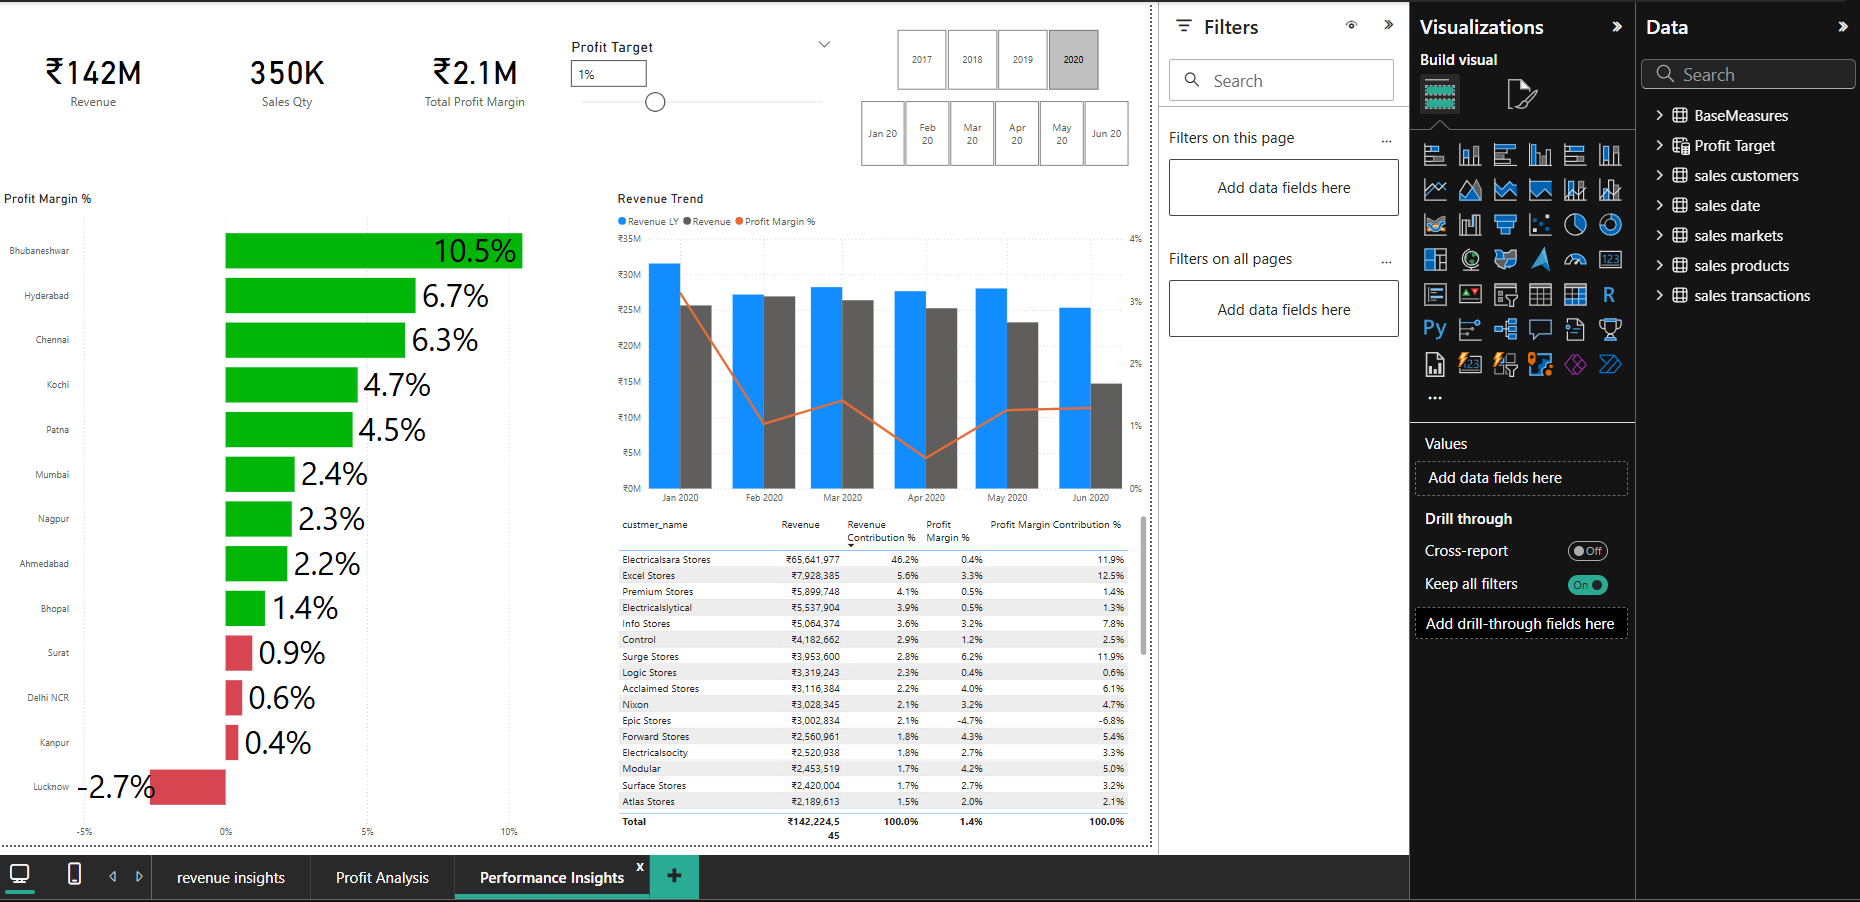

Layout of this report page (visuals, bound fields, positions):
{"tool":"powerbi","page":{"name":"Performance Insights","canvas":[1500,1100],"ordinal":2},"visuals":[{"type":"card","fields":{"Values":["BaseMeasures.Revenue"]},"box":[0,0,243.3,196.7],"z":0},{"type":"card","fields":{"Values":["BaseMeasures.Sales Qty"]},"box":[243.3,0,263.3,196.7],"z":1000},{"type":"barChart","title":"Profit Margin %","fields":{"Category":["sales markets.zone","sales markets.markets_name","sales customers.custmer_name"],"Y":["BaseMeasures.Profit Margin %"]},"box":[0,246,800,854],"z":2000},{"type":"slicer","fields":{"Values":["sales date.year"]},"box":[1145,30,311.7,91.7],"z":3000},{"type":"slicer","fields":{"Values":["sales date.cy_date"]},"box":[1096.7,121.7,398.3,98.3],"z":4000},{"type":"tableEx","title":"Top 5 Products","fields":{"Values":["sales customers.custmer_name","BaseMeasures.Revenue","BaseMeasures.Revenue Contribution %","BaseMeasures.Profit Margin %","BaseMeasures.Profit Margin Contribution %"]},"box":[800,665,700,435],"z":5000},{"type":"lineClusteredColumnComboChart","title":"Revenue Trend","fields":{"Category":["sales date.cy_date"],"Y":["BaseMeasures.Revenue LY","BaseMeasures.Revenue"],"Y2":["BaseMeasures.Profit Margin %"]},"box":[800,246.7,695,418.3],"z":6000},{"type":"card","fields":{"Values":["BaseMeasures.Total Profit Margin"]},"box":[506.7,0,225,196.7],"z":7000},{"type":"slicer","fields":{"Values":["Profit Target.Profit Target"]},"box":[732,42,364,160],"z":8000}]}

Visuals, with their boxes on the page's 1500x1100 design canvas (x1, y1, x2, y2). These are canvas units, not pixel positions in the 1860x902 screenshot, which may show the page scaled, cropped or inside an application window:
card - BaseMeasures.Revenue: select_region(0, 0, 243, 197)
card - BaseMeasures.Sales Qty: select_region(243, 0, 507, 197)
"Profit Margin %" barChart: select_region(0, 246, 800, 1100)
slicer - sales date.year: select_region(1145, 30, 1457, 122)
slicer - sales date.cy_date: select_region(1097, 122, 1495, 220)
"Top 5 Products" tableEx: select_region(800, 665, 1500, 1100)
"Revenue Trend" lineClusteredColumnComboChart: select_region(800, 247, 1495, 665)
card - BaseMeasures.Total Profit Margin: select_region(507, 0, 732, 197)
slicer - Profit Target.Profit Target: select_region(732, 42, 1096, 202)
